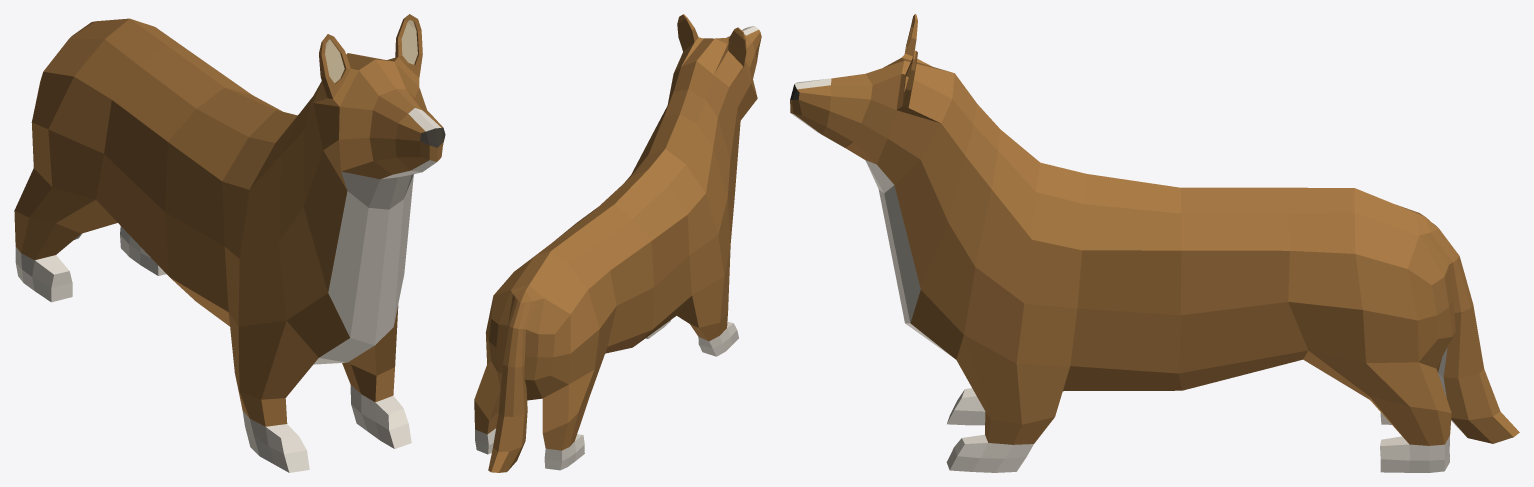
The model's file is 14dogFinal.fbx.
3 views of the same model, side by side, from view 1: azimuth 30°, elevation 25°; view 2: azimuth 150°, elevation 25°; view 3: azimuth 270°, elevation 25° (orthographic). The views are drawn at different scales.
Parts seen in each view (by area): view 1: 14dogFinal; view 2: 14dogFinal; view 3: 14dogFinal.
Boxes of the visible parts, bbox=[...] form: 14dogFinal: bbox=[14, 14, 445, 472]; 14dogFinal: bbox=[474, 14, 761, 472]; 14dogFinal: bbox=[790, 14, 1519, 472].
Size of the model in its own units: 29.72 by 82.55 by 133.
